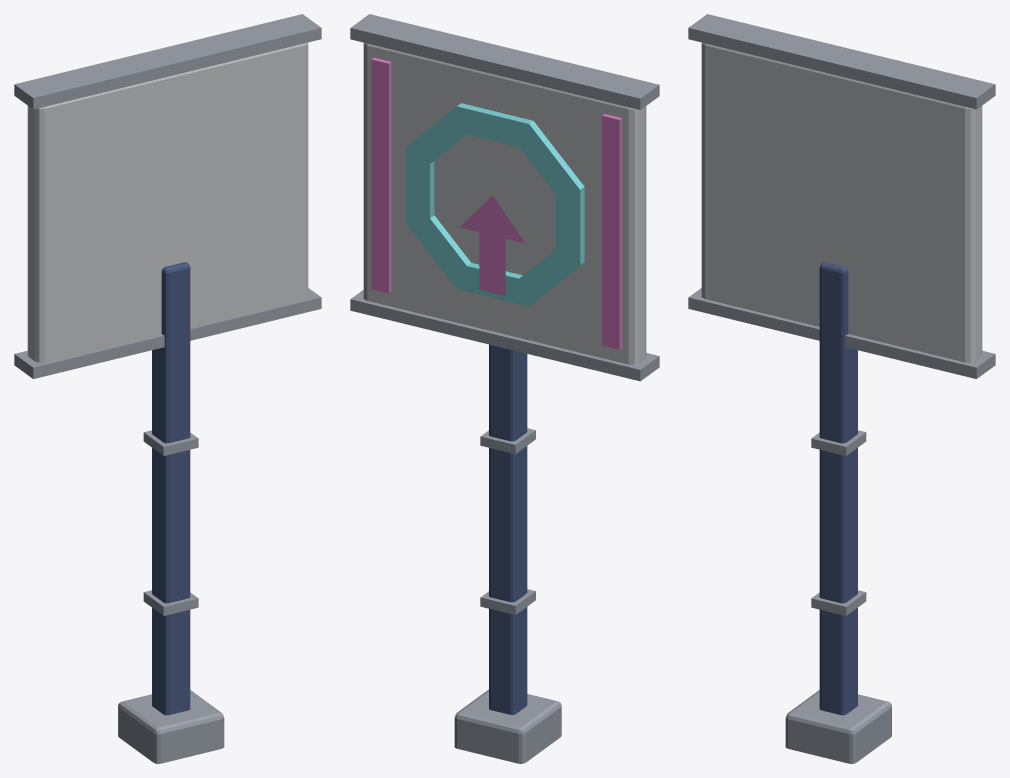
File: rn2-orbital-sign.glb
The picture shows the model from 3 angles, left to right: view 1: azimuth 30°, elevation 25°; view 2: azimuth 150°, elevation 25°; view 3: azimuth 330°, elevation 25°; orthographic projection.
Parts seen in each view (by area): view 1: rn2_orbital_sign_body; view 2: rn2_orbital_sign_body, rn2_orbital_sign_glow; view 3: rn2_orbital_sign_body.
Part boxes in pixels (x1,y1,x2,y2): rn2_orbital_sign_body: (14, 14, 321, 763); rn2_orbital_sign_body: (350, 14, 659, 763); rn2_orbital_sign_glow: (371, 57, 621, 349); rn2_orbital_sign_body: (688, 14, 995, 763).
Bounding box in the file's own units: 2.64 × 5.98 × 0.64.
